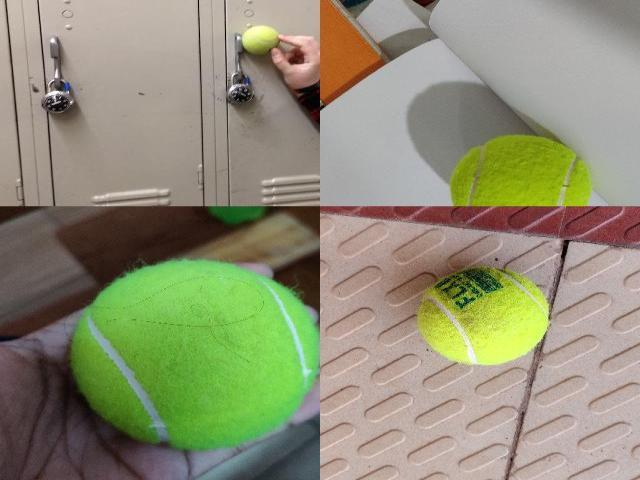tennis-ball: (72, 262, 318, 449), (418, 268, 548, 364), (448, 134, 593, 206), (242, 25, 280, 55)
